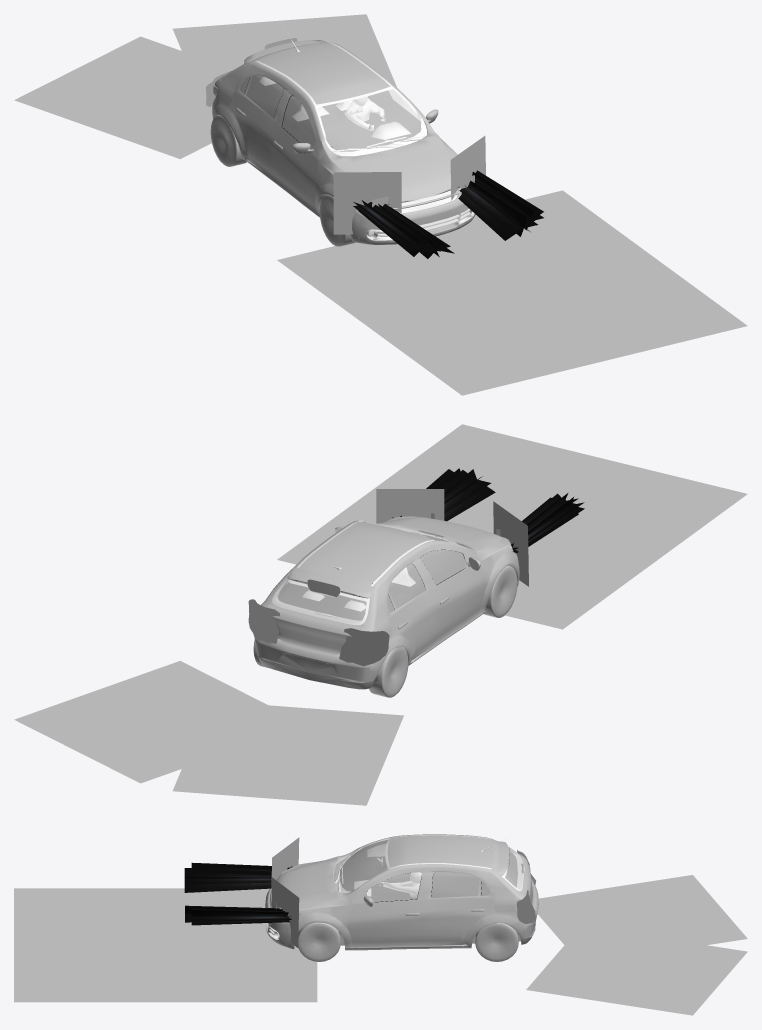
3 views of the same model, one above another, from view 1: azimuth 30°, elevation 25°; view 2: azimuth 150°, elevation 25°; view 3: azimuth 270°, elevation 25° (orthographic). The views are drawn at different scales.
Visible parts, largest first — view 1: HeadLightFlareGroundR, HeadLightFlareGroundL, GV_Chassis, TailLightFlareGroundR, TailLightFlareGroundL, GV_Glass, GV_Interior, lights_position_front_and_back_glows, HeadLightFlare3, GV_Black1, HeadLightFlare, RtD (+2 smaller); view 2: GV_Chassis, HeadLightFlareGroundR, TailLightFlareGroundL, HeadLightFlareGroundL, TailLightFlareGroundR, GV_Glass, GV_Interior, lights_position_front_and_back_glows, GV_BrakeLight, HeadLightFlare, HeadLightFlare3, RtD (+2 smaller); view 3: GV_Chassis, HeadLightFlareGroundL, HeadLightFlareGroundR, TailLightFlareGroundR, TailLightFlareGroundL, GV_Glass, lights_position_front_and_back_glows, GV_Interior, RdE, RtE, GV_Black1, HeadLightFlare (+3 smaller).
Part boxes in pixels (x1,y1,x2,y2): HeadLightFlareGroundR: [277, 223, 644, 395]; HeadLightFlareGroundL: [392, 190, 747, 367]; GV_Chassis: [212, 40, 475, 244]; TailLightFlareGroundR: [14, 36, 232, 158]; TailLightFlareGroundL: [172, 14, 396, 118]; GV_Glass: [240, 64, 421, 201]; GV_Interior: [240, 75, 420, 151]; lights_position_front_and_back_glows: [353, 170, 543, 258]; HeadLightFlare3: [333, 172, 401, 234]; GV_Black1: [254, 42, 474, 240]; HeadLightFlare: [450, 136, 485, 200]; RtD: [210, 115, 246, 166]; GV_Chassis: [255, 516, 519, 689]; HeadLightFlareGroundR: [462, 451, 747, 629]; TailLightFlareGroundL: [14, 661, 306, 783]; HeadLightFlareGroundL: [277, 424, 644, 564]; TailLightFlareGroundR: [172, 705, 403, 805]; GV_Glass: [275, 521, 513, 622]; GV_Interior: [278, 532, 466, 620]; lights_position_front_and_back_glows: [392, 468, 584, 552]; GV_BrakeLight: [248, 579, 389, 666]; HeadLightFlare: [376, 489, 444, 523]; HeadLightFlare3: [493, 501, 528, 586]; RtD: [369, 647, 408, 697]; GV_Chassis: [265, 834, 538, 950]; HeadLightFlareGroundL: [14, 929, 317, 1002]; HeadLightFlareGroundR: [14, 888, 312, 961]; TailLightFlareGroundR: [537, 875, 747, 964]; TailLightFlareGroundL: [526, 930, 747, 1015]; GV_Glass: [279, 840, 522, 913]; lights_position_front_and_back_glows: [184, 862, 292, 925]; GV_Interior: [340, 840, 517, 902]; RdE: [298, 922, 340, 961]; RtE: [475, 923, 518, 961]; GV_Black1: [266, 835, 524, 939]; HeadLightFlare: [271, 877, 299, 947].
Size of what is drawn, in the model's own units: 5.51 by 1.82 by 12.15.
